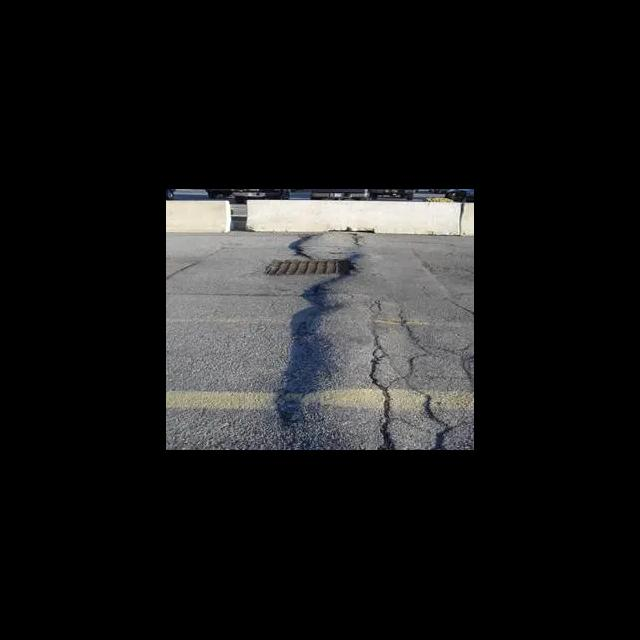retak_memanjang: (360, 297, 444, 450)
